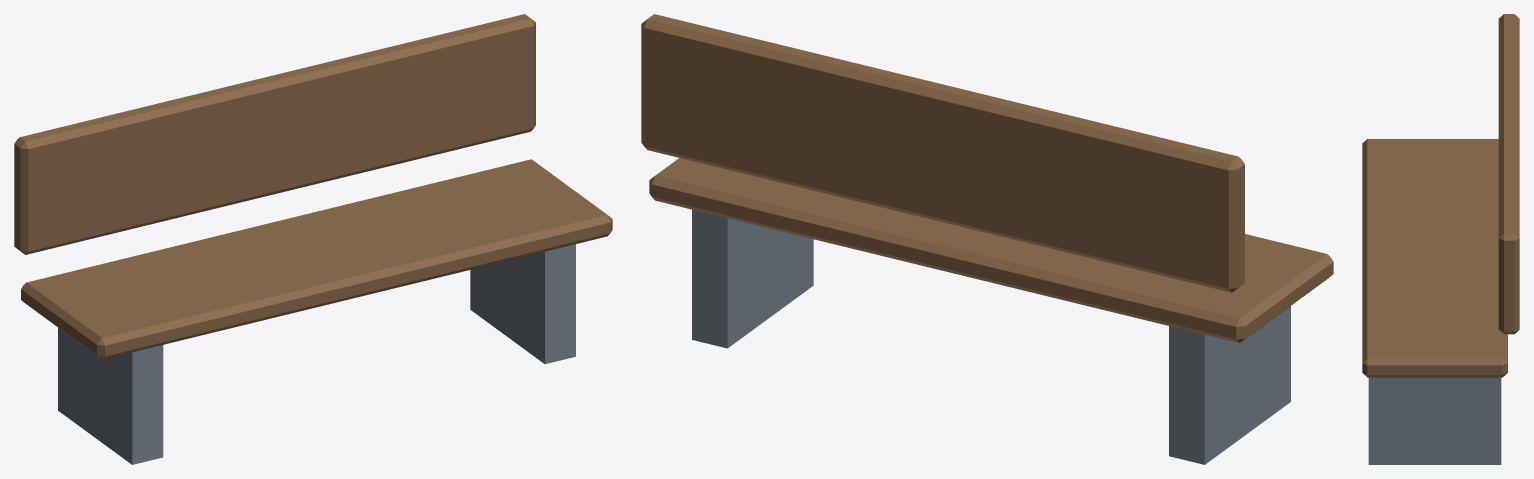
File: bench.fbx
3 renders of one model, left to right at view 1: azimuth 30°, elevation 25°; view 2: azimuth 150°, elevation 25°; view 3: azimuth 270°, elevation 25°, orthographic. The views are drawn at different scales.
Parts seen in each view (by area): view 1: bench; view 2: bench; view 3: bench.
Boxes of the visible parts, left/top/right/bottom form: bench: left=14, top=14, right=612, bottom=464; bench: left=641, top=14, right=1333, bottom=464; bench: left=1362, top=14, right=1519, bottom=464.
Bounding box in the file's own units: 2 × 1.02 × 0.595.
